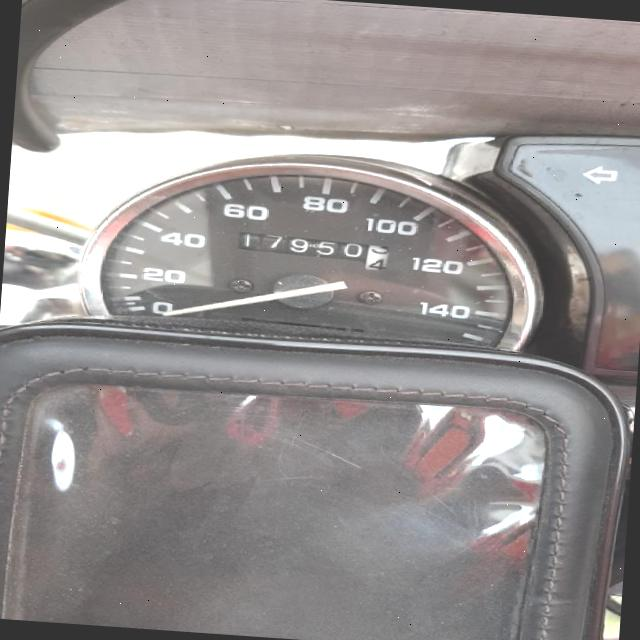odometer: (228, 227, 392, 273)
